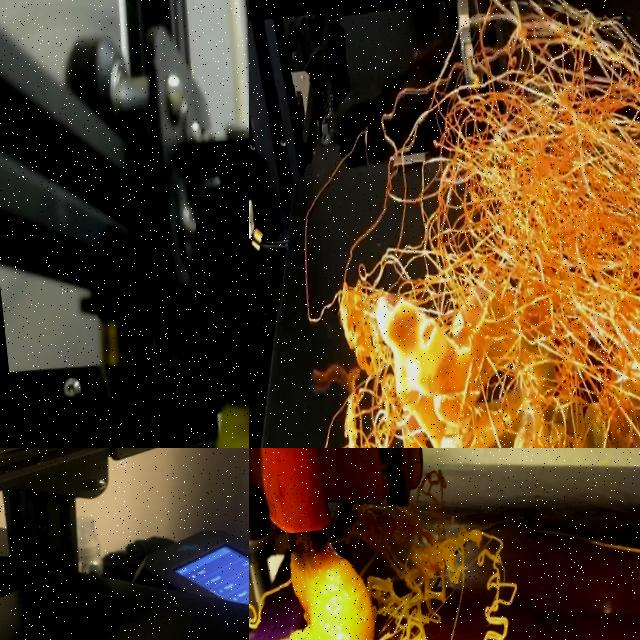spaghetti: (249, 0, 640, 448), (249, 508, 555, 640), (211, 393, 249, 448)
